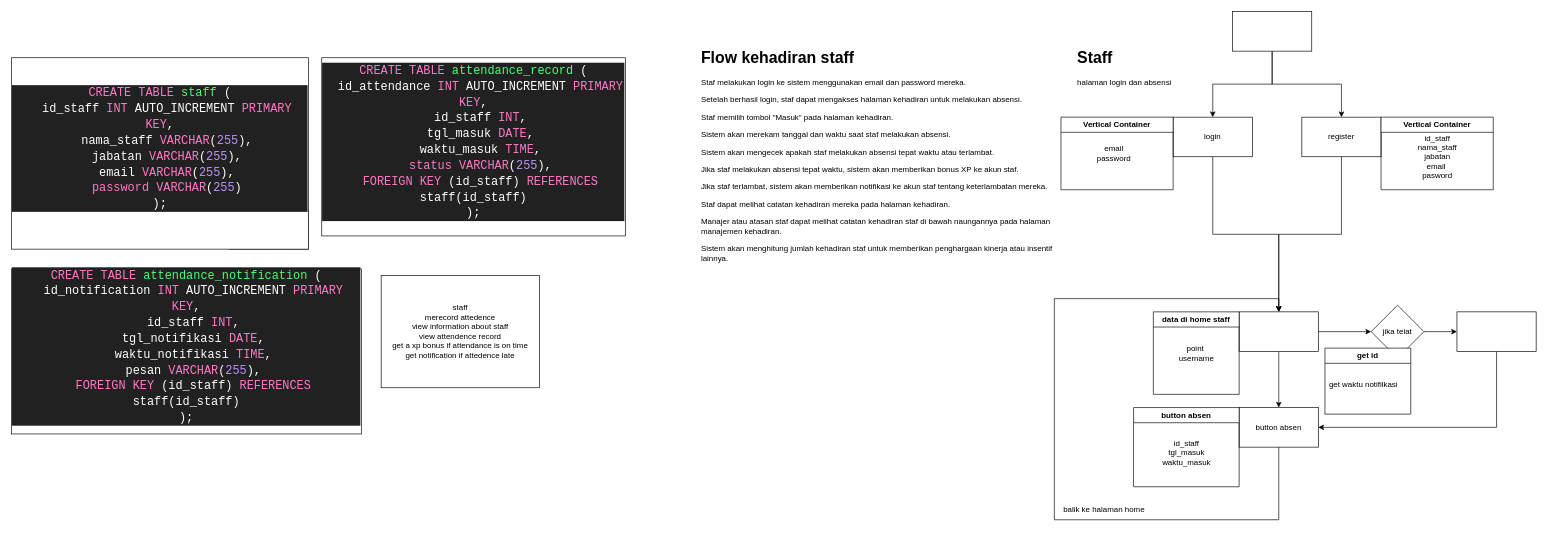
The diagram is 1548 pixels wide and 537 high, and some of its shapes have lost their labels. Each missing label, with the centre of its shape:
halaman utama: pixel 1272 31
home user: pixel 1278 331
notif: pixel 1496 331
